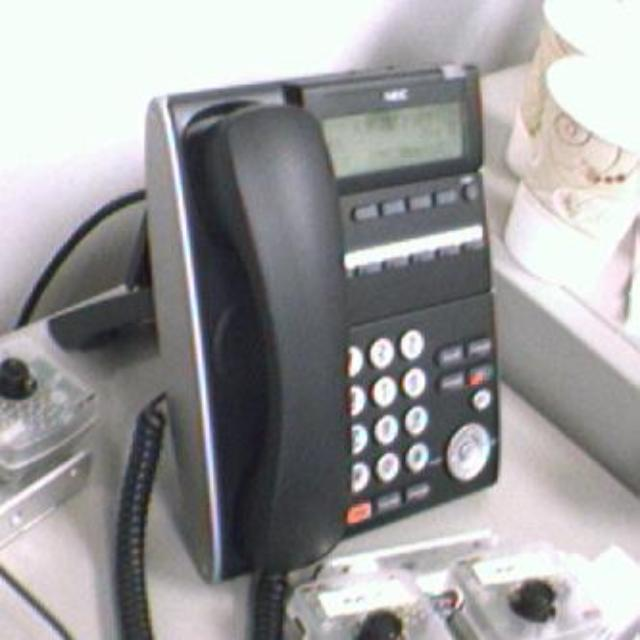Telephone-Set: (141, 62, 504, 582)
